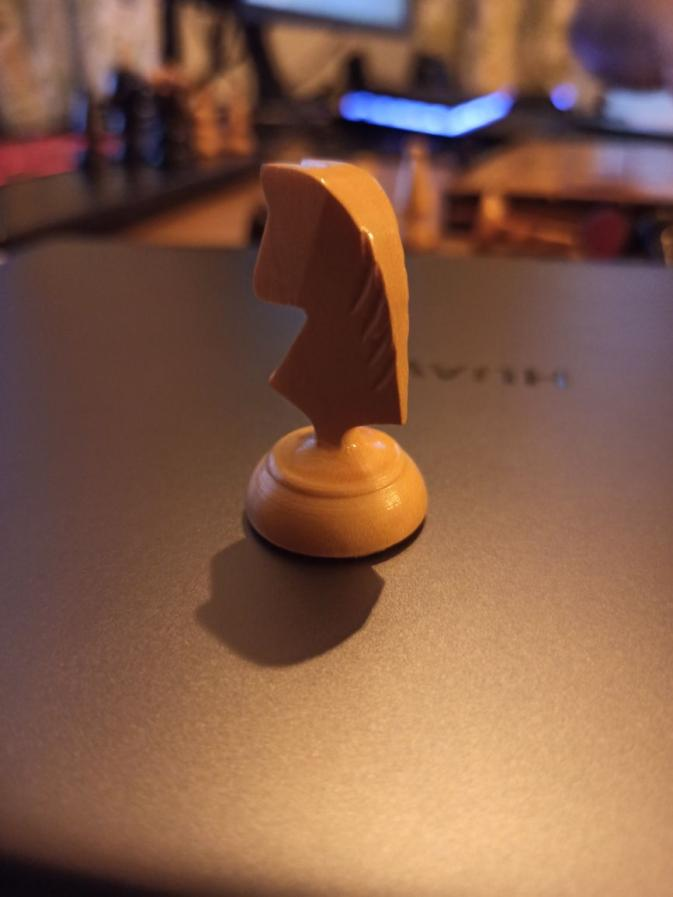wknight: (247, 157, 431, 563)
